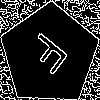F: (24, 30, 77, 82)
